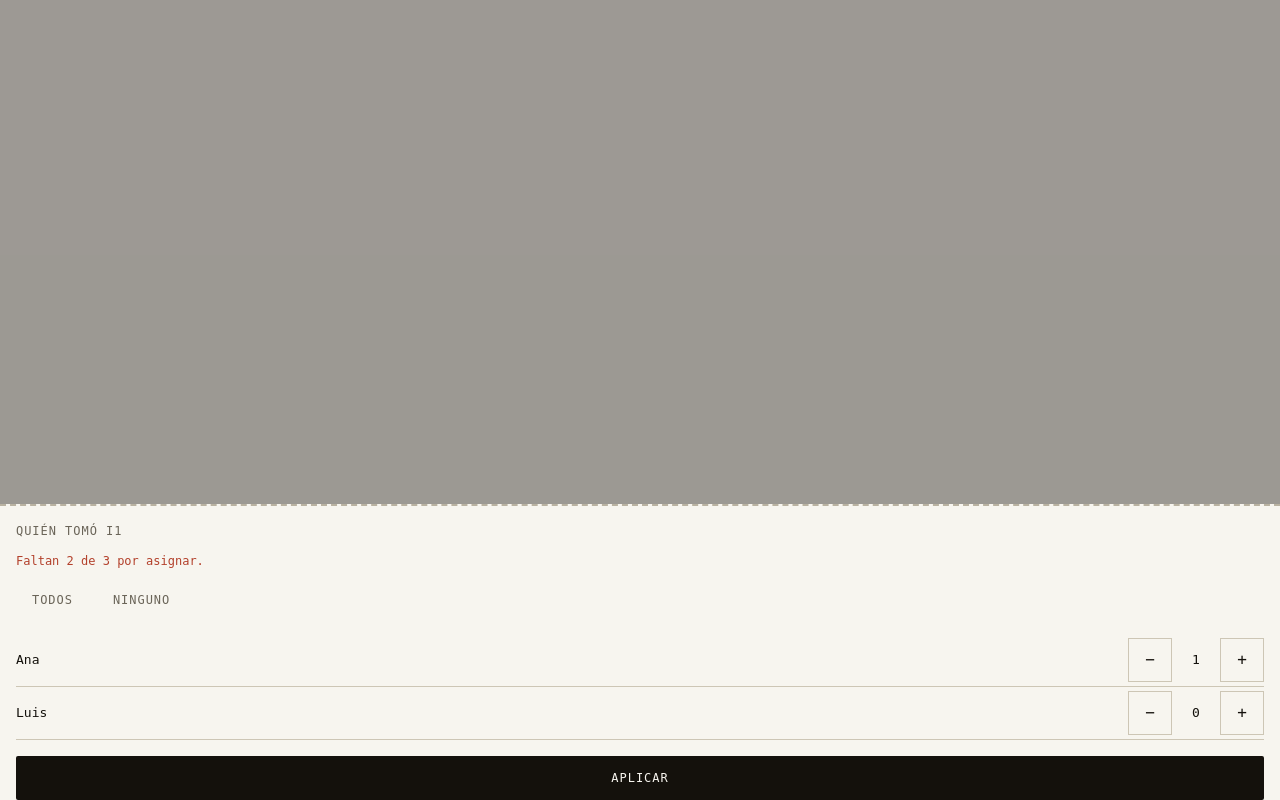
Test: AssignSheet › avisa cuando las unidades no cuadran con la cantidad
Check: the message shows "Faltan 2", box [16, 554, 204, 568]
Click the button named "sumar unidad a luis".
click(1242, 713)  # box [1220, 691, 1264, 735]
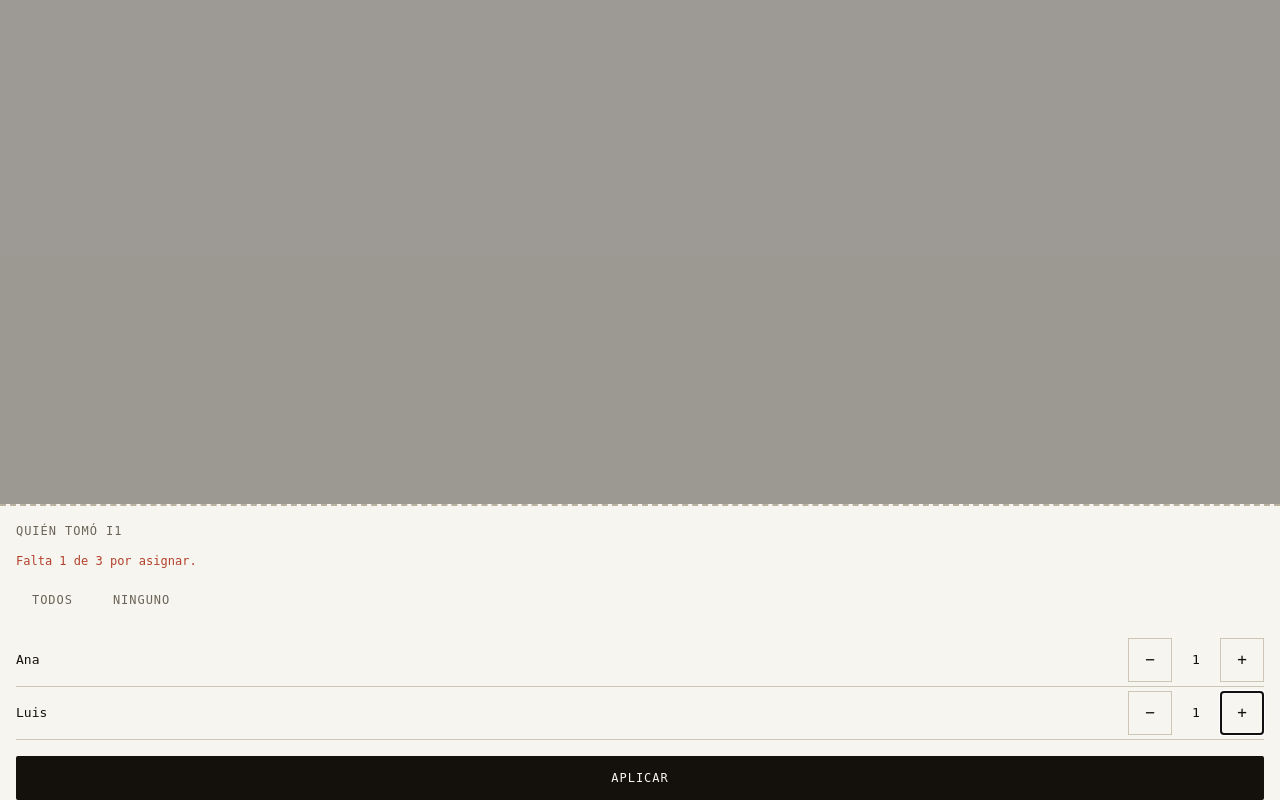
Check: the message shows "Falta 1", box [16, 554, 197, 568]
